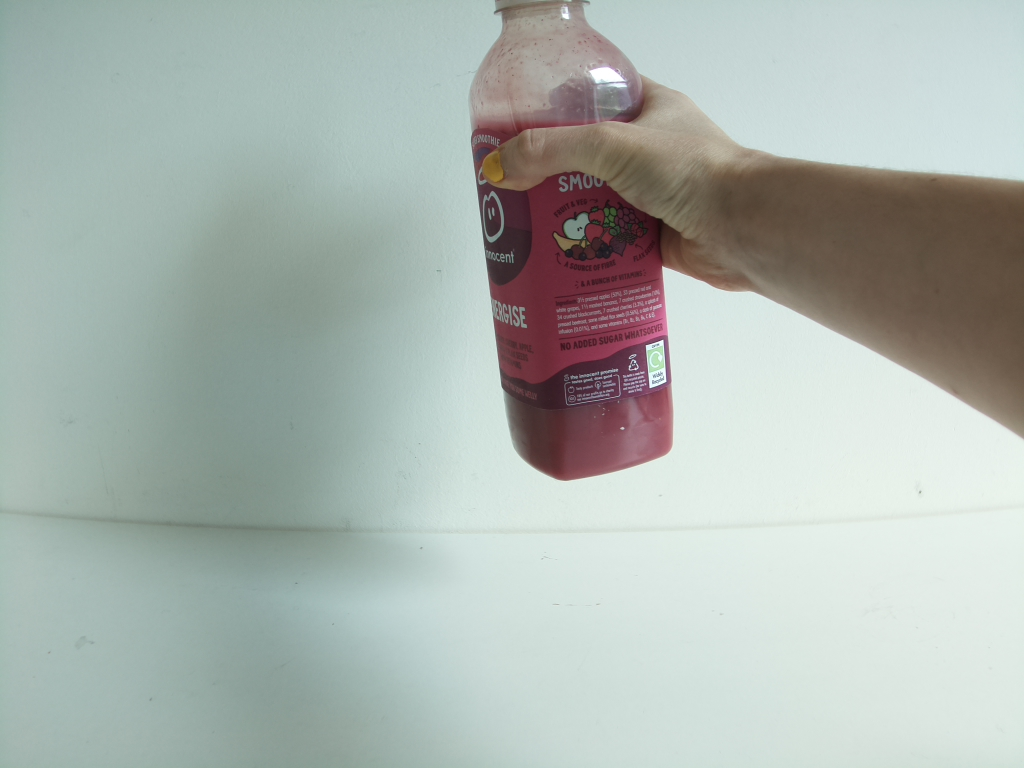juice: (466, 1, 682, 484)
